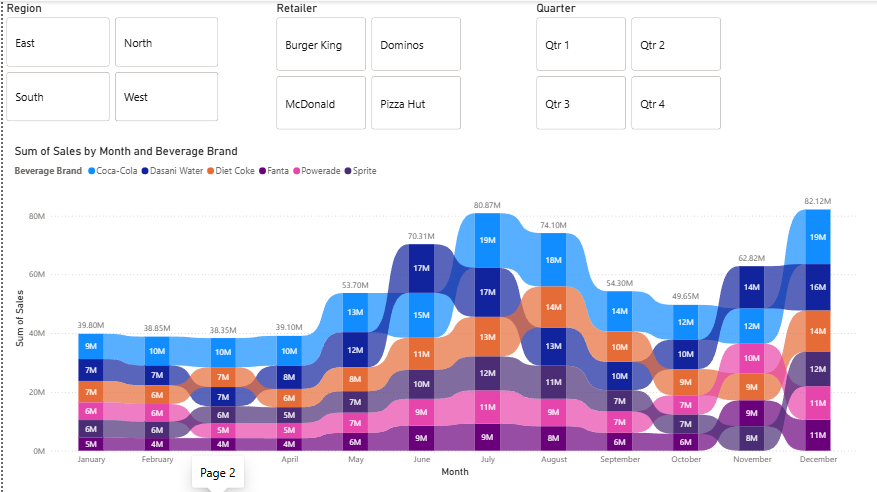

Layout of this report page (visuals, bound fields, positions):
{"tool":"powerbi","page":{"name":"Page 2","canvas":[1280,720],"ordinal":1},"visuals":[{"type":"ribbonChart","fields":{"Category":["BV India.Date.Variation.Date Hierarchy.Month"],"Series":["BV India.Beverage Brand"],"Y":["Sum(BV India.Sales)"]},"box":[11.8,210,1244.7,492.2],"z":0},{"type":"advancedSlicerVisual","fields":{"Values":["BV India.Retailer"]},"box":[395,0,280,193.3],"z":1000},{"type":"advancedSlicerVisual","fields":{"Values":["BV India.Region"]},"box":[0,0,320,181.7],"z":2000},{"type":"advancedSlicerVisual","fields":{"Values":["BV India.Date.Variation.Date Hierarchy.Quarter"]},"box":[775,0,280,193.3],"z":3000}]}

Visuals, with their boxes in screenshot pixels (x1, y1, x2, y2), scaled from the page's 1280x720 canvas onto the 877x492 screenshot:
ribbonChart - BV India.Date.Variation.Date Hierarchy.Month x BV India.Beverage Brand: left=8, top=144, right=861, bottom=480
advancedSlicerVisual - BV India.Retailer: left=271, top=0, right=462, bottom=132
advancedSlicerVisual - BV India.Region: left=0, top=0, right=219, bottom=124
advancedSlicerVisual - BV India.Date.Variation.Date Hierarchy.Quarter: left=531, top=0, right=723, bottom=132
